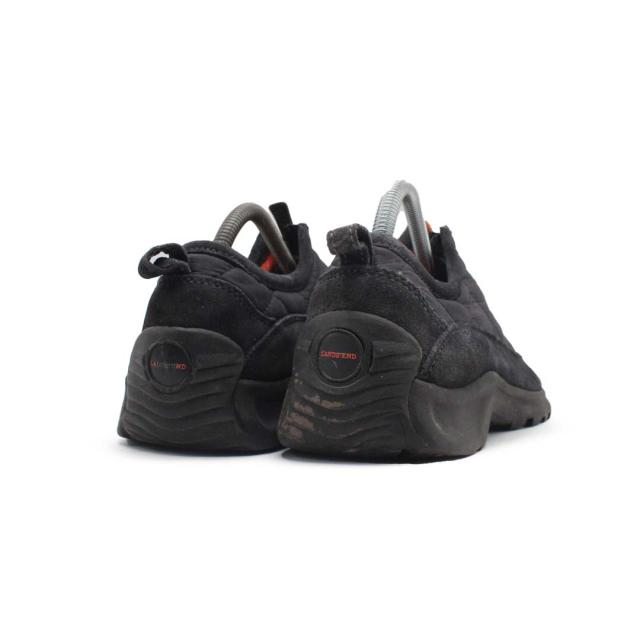heel: (301, 225, 458, 385), (140, 237, 292, 379)
midsole: (274, 312, 547, 456), (115, 326, 295, 451)
